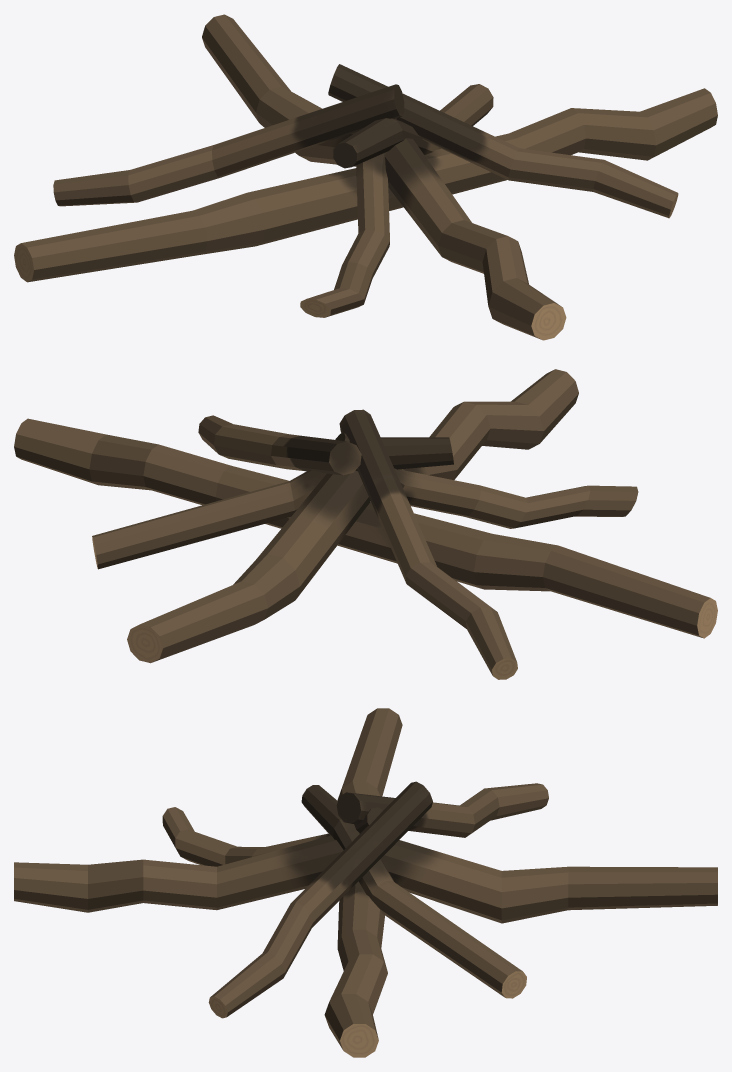
Rendered from woodsies3.fbx.
3 views of the same model, one above another, from view 1: azimuth 30°, elevation 25°; view 2: azimuth 150°, elevation 25°; view 3: azimuth 270°, elevation 25° (orthographic). The views are drawn at different scales.
Parts seen in each view (by area): view 1: branch6.001; view 2: branch6.001; view 3: branch6.001.
Boxes of the visible parts, x1,y1,x2,y2 form: branch6.001: [14, 14, 717, 340]; branch6.001: [14, 369, 717, 679]; branch6.001: [14, 708, 717, 1057].
Bounding box in the file's own units: 682 × 128 × 643.
